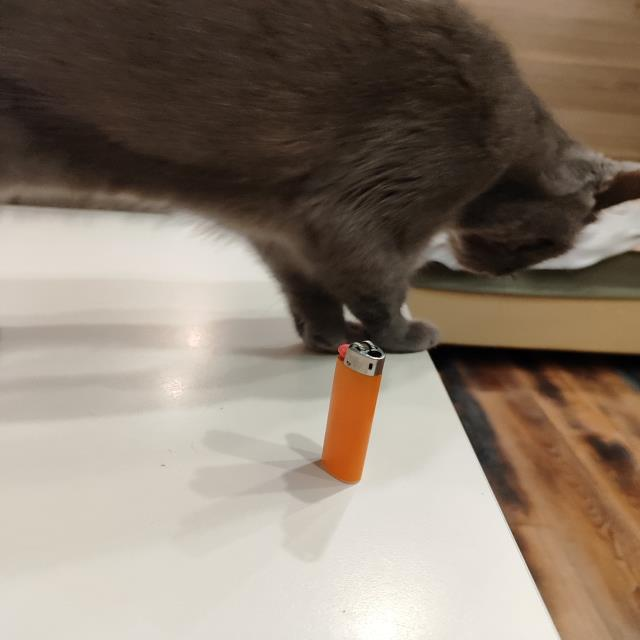lighter: (320, 340, 384, 483)
